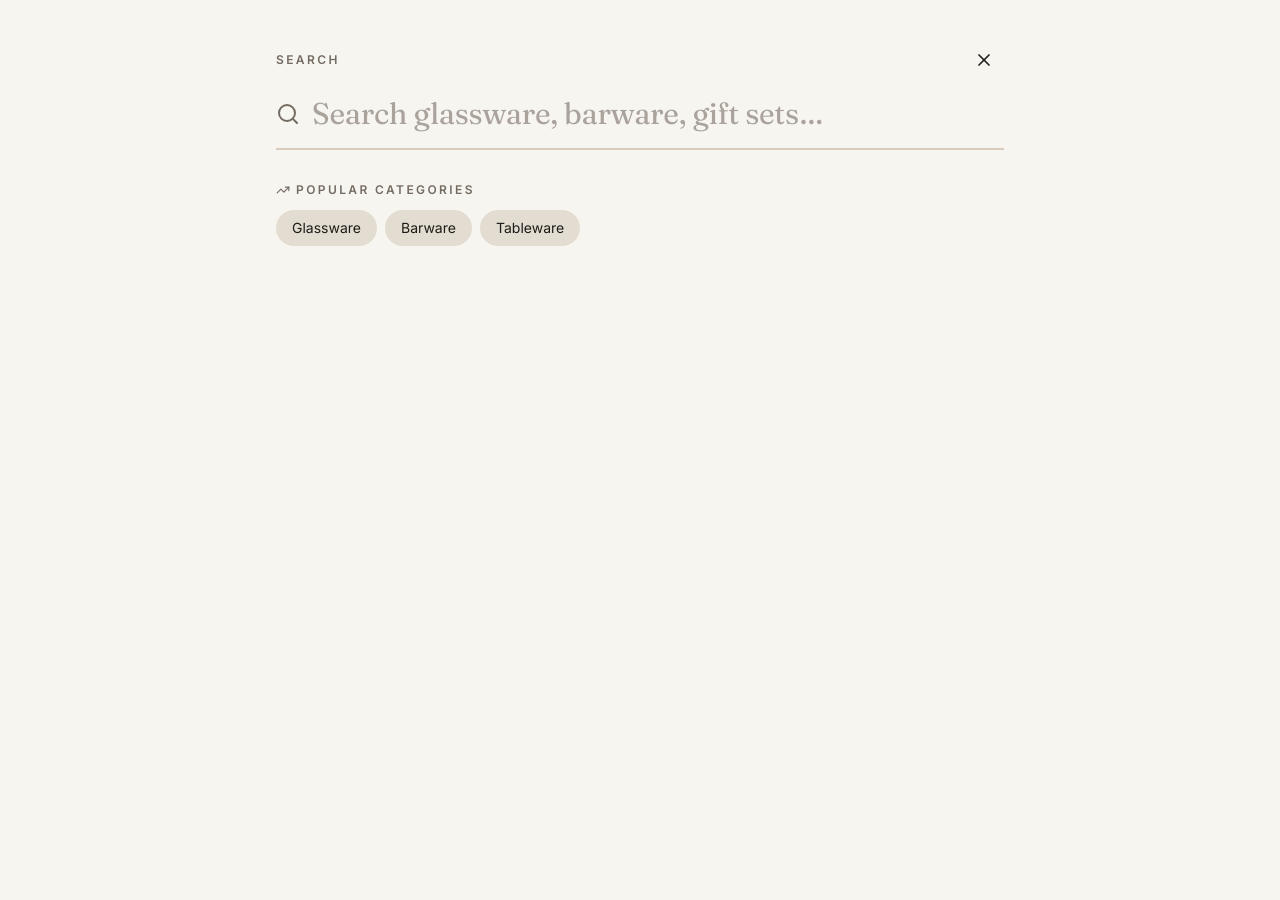
SearchModal (search component) › navigates to the shop with the query on Enter when no result is highlighted
Later steps or results of the test are not shown.
Type "glass" into the dropdown.
click(658, 114); type("glass")  # box [312, 96, 1004, 132]
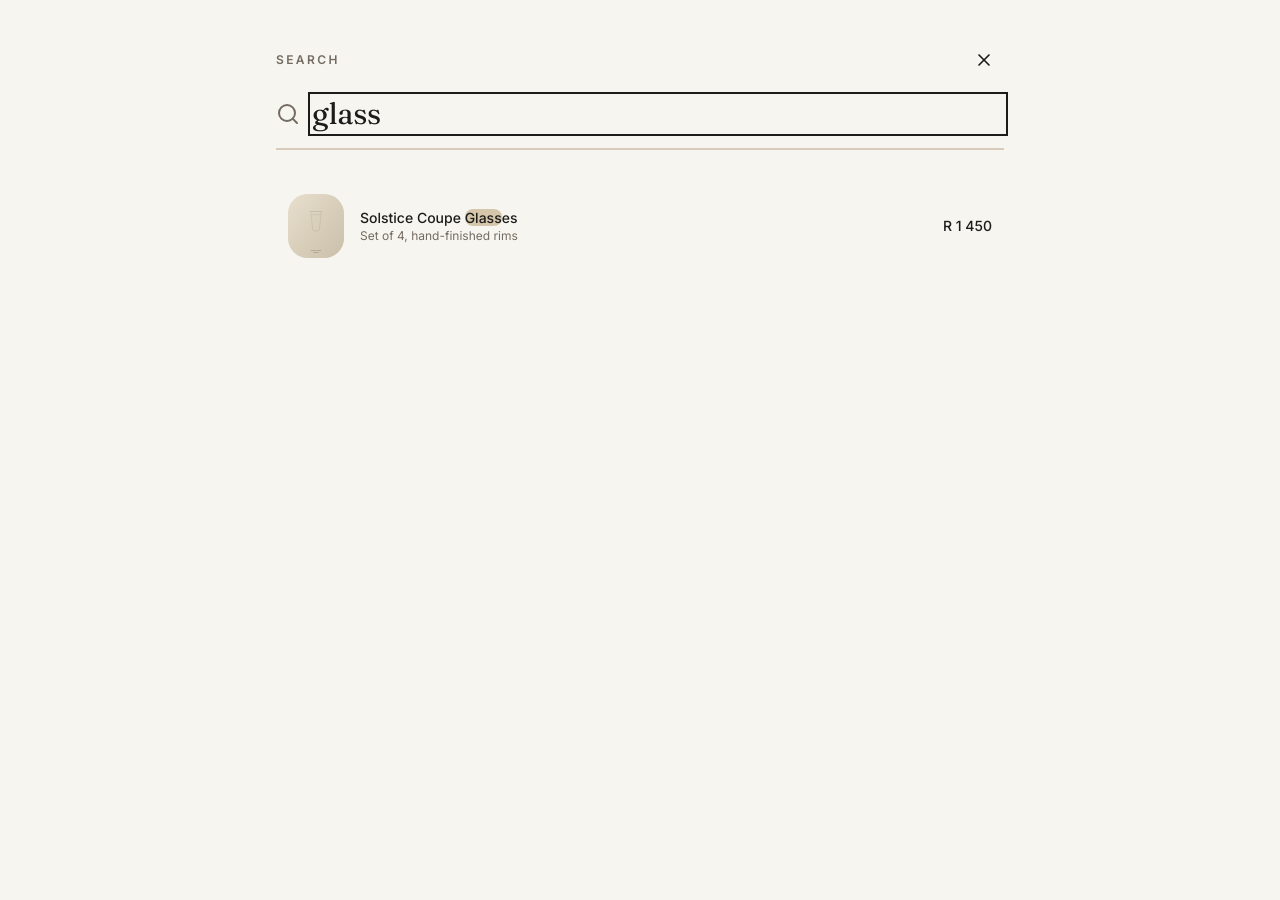
Result: the list is shown at [276, 182, 1004, 270]
